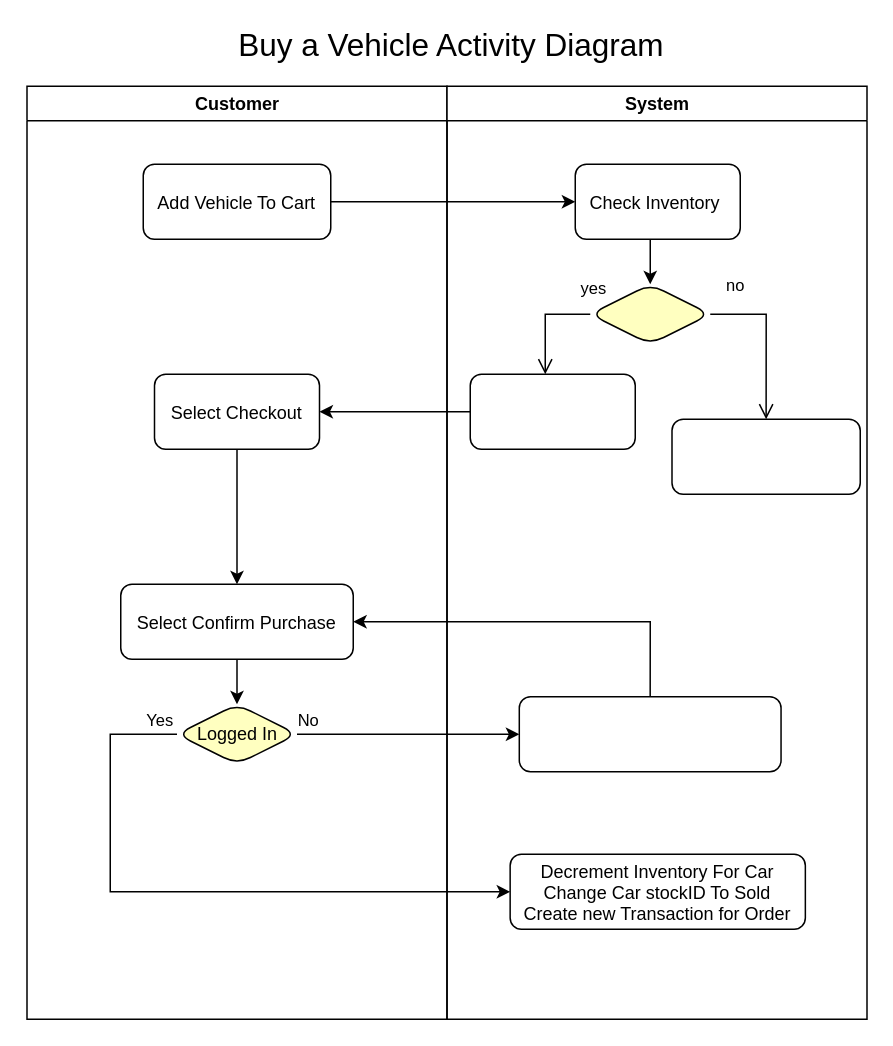
Image size: 893x1046. Some labels were removed from this diagram. Here are the shapes that lost their labels. From the top down, the centre of each, then its label:
At (649,313): "Available".
At (552,411): "Add Car to Cart".
At (765,456): "Display Out of Stock".
At (649,733): "Prompt Customer To Login In".
